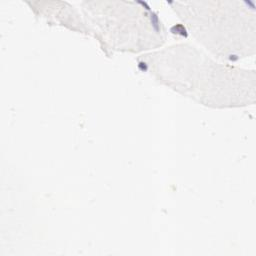nucleus: (150, 11, 162, 31), (136, 1, 150, 11), (138, 61, 148, 72), (244, 1, 256, 10), (171, 26, 183, 34), (229, 53, 238, 60), (166, 1, 172, 4)
positive_cell: (170, 23, 187, 37)
